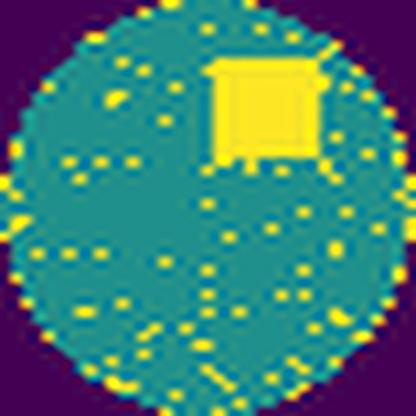Loc: (210, 58, 326, 164)
